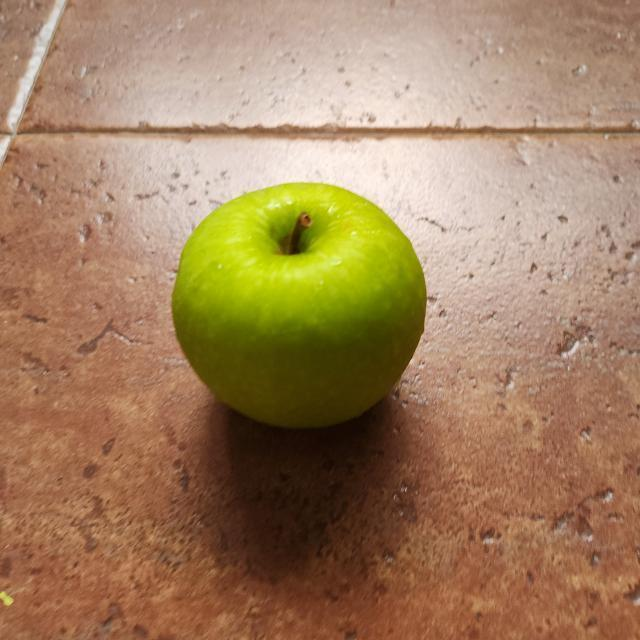apple: (169, 178, 441, 436)
